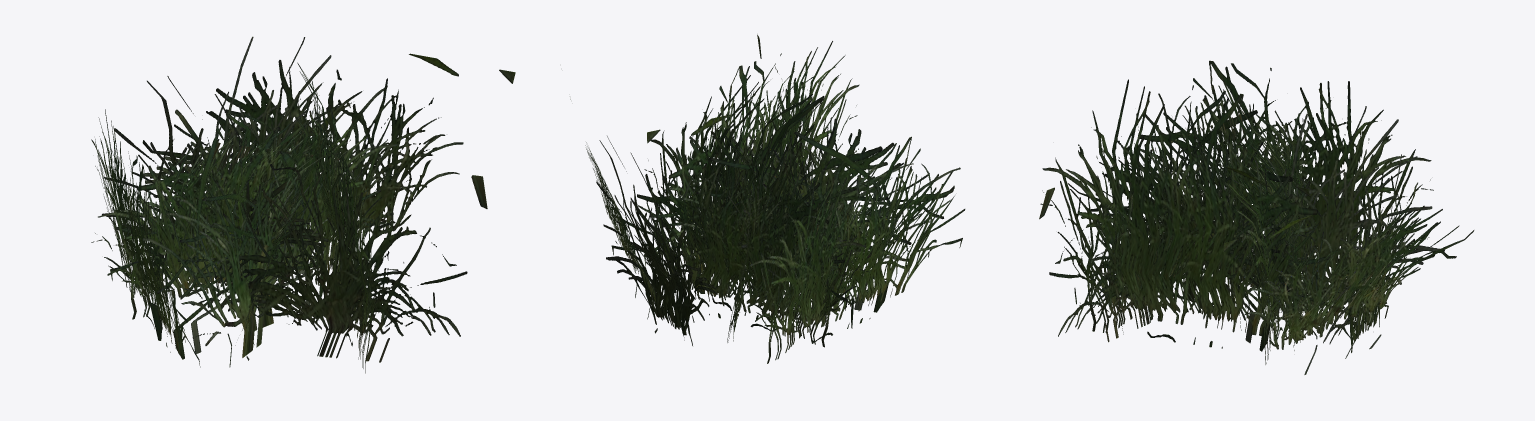
Rendered from forest_grass_001_b_LOD1.gltf.
3 renders of one model, left to right at view 1: azimuth 30°, elevation 25°; view 2: azimuth 150°, elevation 25°; view 3: azimuth 270°, elevation 25°, orthographic. The views are drawn at different scales.
Parts seen in each view (by area): view 1: forest_grass_001_b_LOD1; view 2: forest_grass_001_b_LOD1; view 3: forest_grass_001_b_LOD1.
Boxes of the visible parts, box(x1,y1,x2,y2) form: forest_grass_001_b_LOD1: box(91, 36, 515, 373); forest_grass_001_b_LOD1: box(570, 34, 965, 363); forest_grass_001_b_LOD1: box(1039, 60, 1474, 374).
Bounding box in the file's own units: 1.36 × 0.7546 × 1.4.
1 material, 1 textured.
